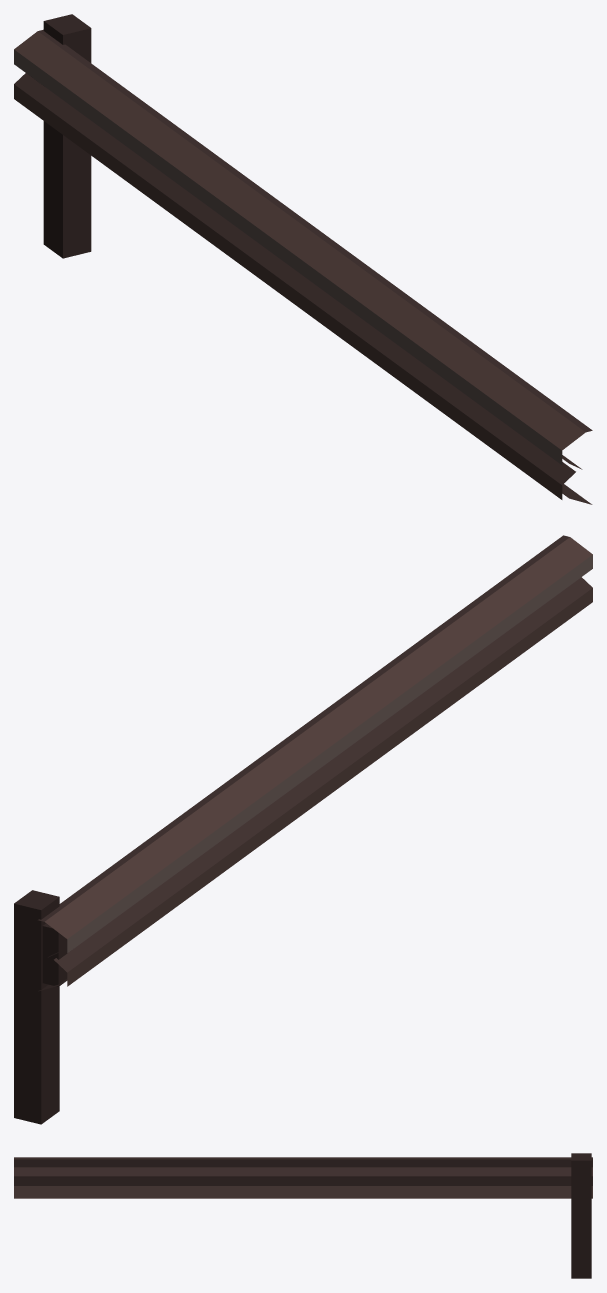
File: hl_trk_guardrail.glb
The picture shows the model from 3 angles, top to bottom: view 1: azimuth 30°, elevation 25°; view 2: azimuth 150°, elevation 25°; view 3: azimuth 270°, elevation 25°; orthographic projection. The views are drawn at different scales.
Visible parts, largest first — view 1: hl_trk_guardrail; view 2: hl_trk_guardrail; view 3: hl_trk_guardrail.
Part boxes in pixels (<box>): hl_trk_guardrail: <box>14,14,592,504</box>; hl_trk_guardrail: <box>14,535,592,1124</box>; hl_trk_guardrail: <box>14,1153,592,1278</box>.
Bounding box in the file's own units: 0.2398 × 0.8999 × 4.
